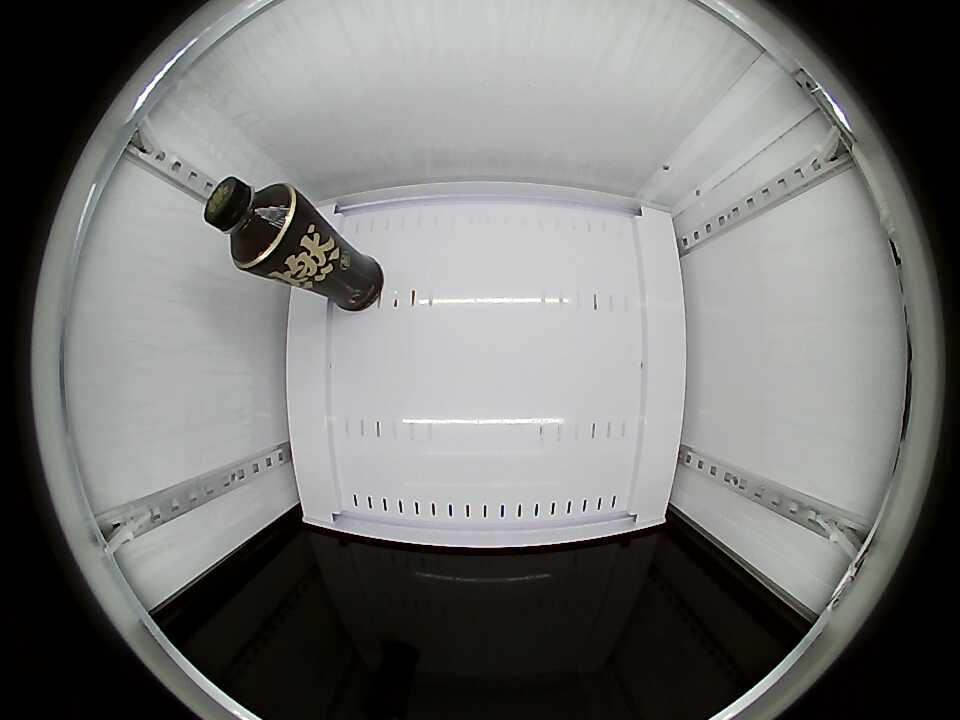rancha-1: (203, 176, 296, 270)
